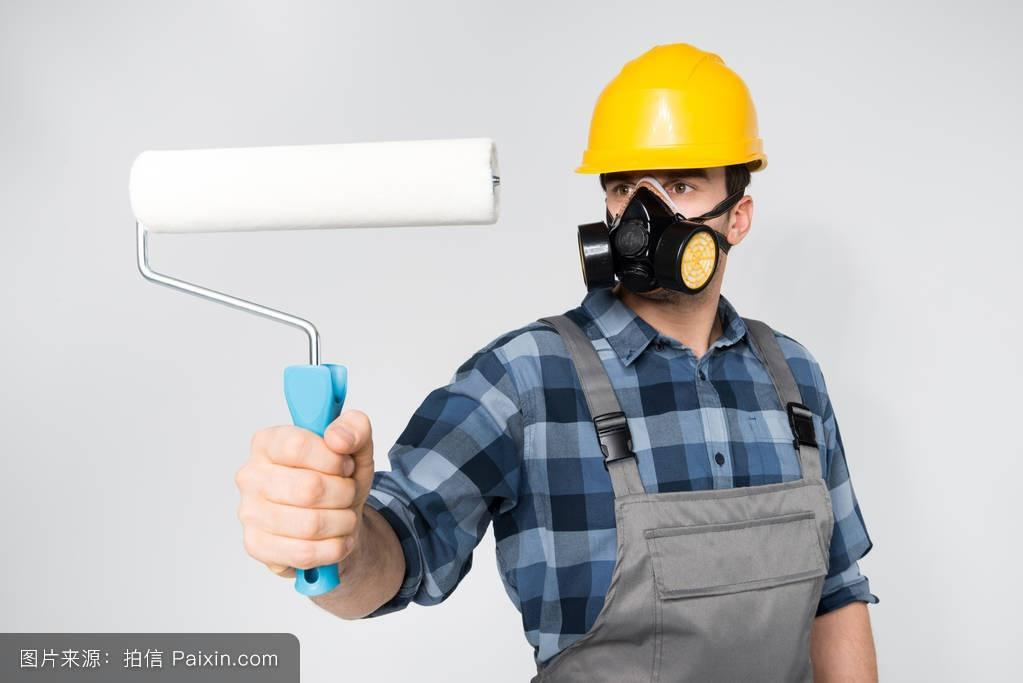helmet: (573, 37, 775, 194)
no-vest: (491, 305, 863, 683)
person: (476, 37, 881, 683)
